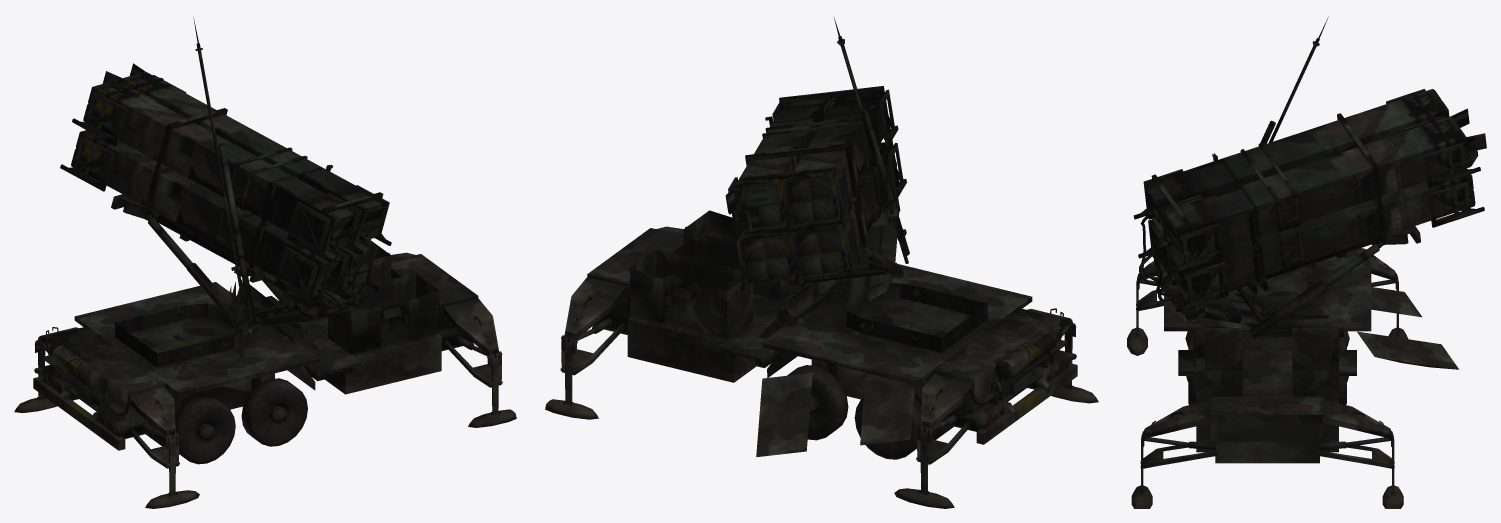
The model's file is sam-wreck.glb.
3 renders of one model, left to right at view 1: azimuth 30°, elevation 25°; view 2: azimuth 150°, elevation 25°; view 3: azimuth 270°, elevation 25°, orthographic. The views are drawn at different scales.
Visible parts, largest first — view 1: hull, turret; view 2: hull, turret; view 3: turret, hull.
Boxes of the visible parts, <box> form: hull: <box>14,240,516,508</box>; turret: <box>49,18,391,344</box>; hull: <box>545,210,1098,508</box>; turret: <box>725,16,915,457</box>; turret: <box>1133,16,1486,369</box>; hull: <box>1127,248,1408,508</box>.
Size of the model in its own units: 8.44 by 8.26 by 6.99.
1 material, 1 textured.
